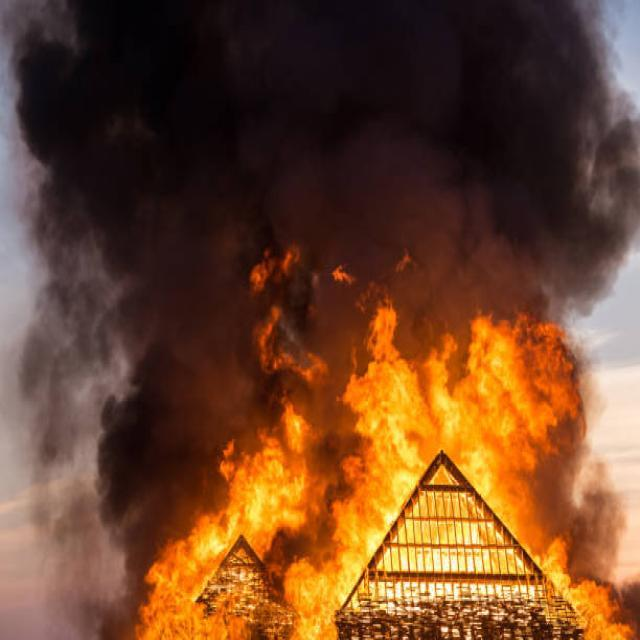Fire: (123, 240, 639, 640)
Smoke: (15, 0, 639, 554)
